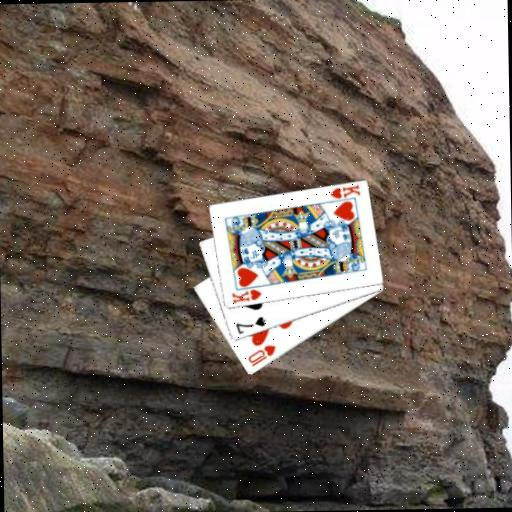10H: (245, 342, 277, 369)
7S: (232, 313, 267, 336)
KH: (327, 182, 362, 201), (229, 287, 263, 306)
